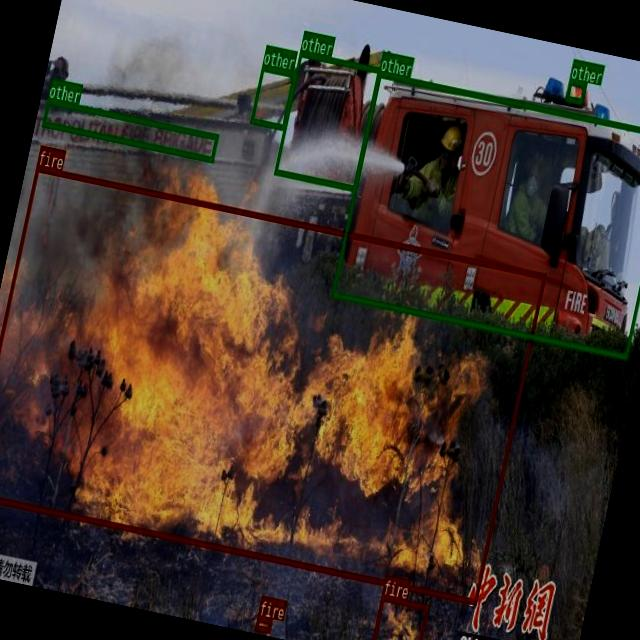fire: (0, 165, 545, 604), (370, 593, 428, 640), (254, 615, 272, 632)
